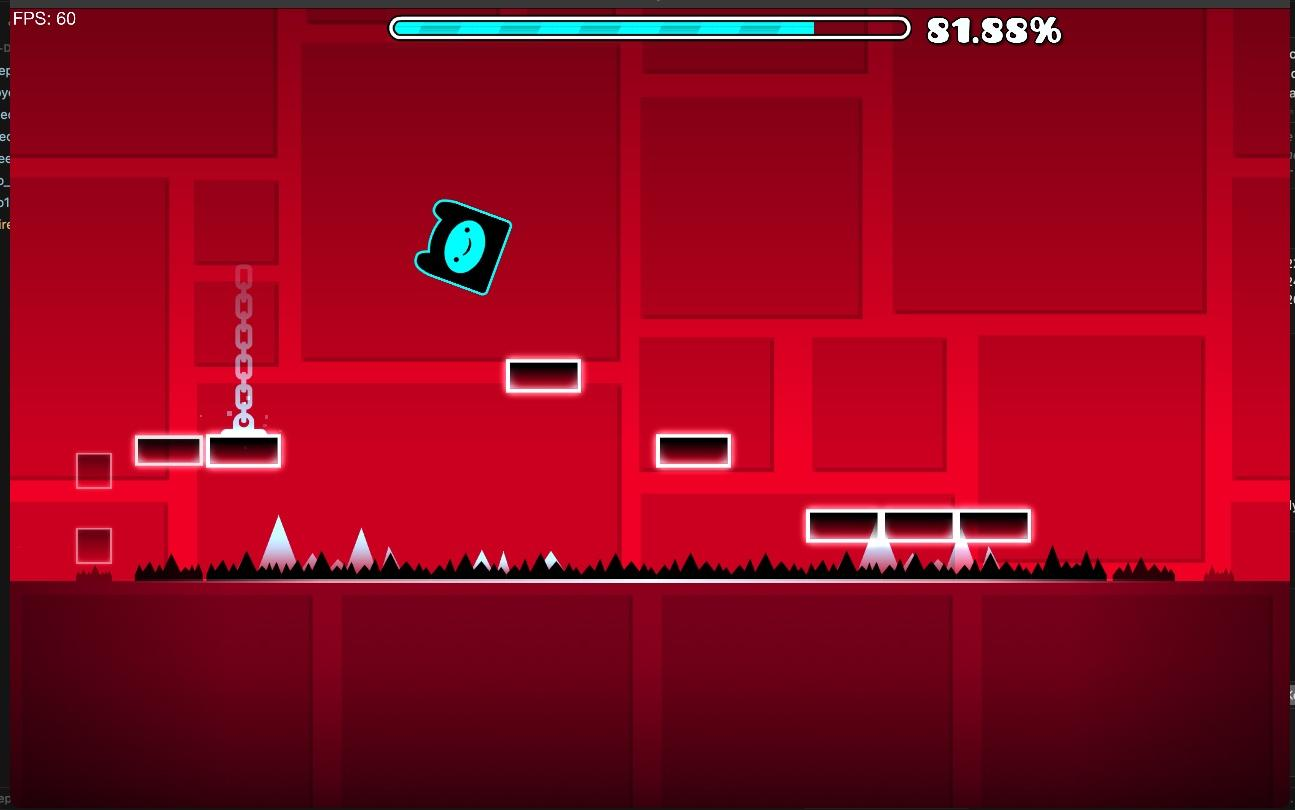platform: (805, 506, 1033, 550), (134, 428, 281, 468), (652, 431, 734, 469), (504, 358, 586, 394)
player: (415, 200, 510, 294)
spike: (204, 517, 1020, 580), (136, 557, 197, 581)
